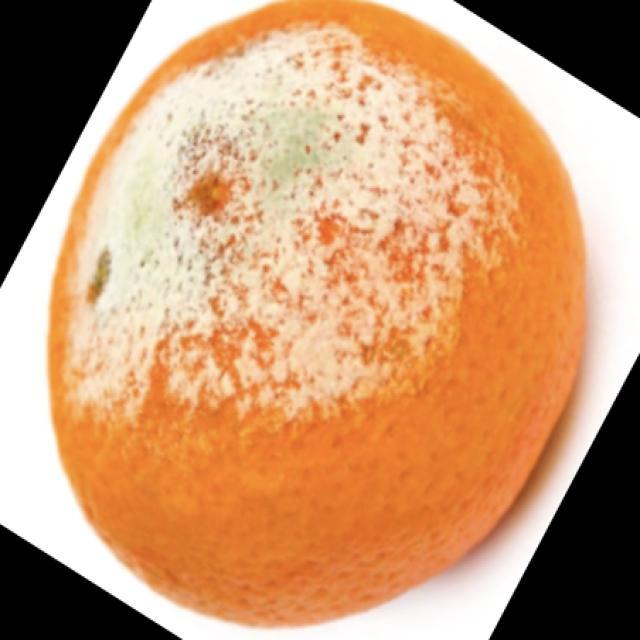sedikit-busuk: (49, 0, 584, 623)
